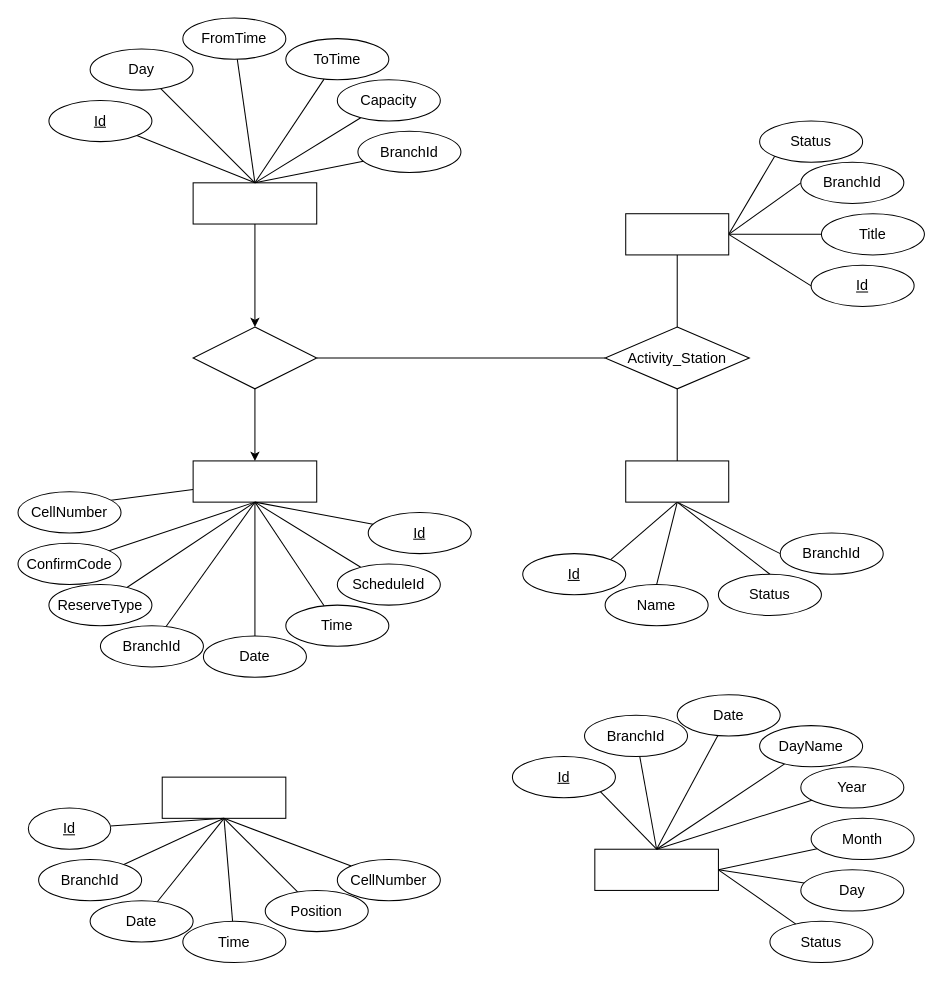
Some shapes in this 942 by 981 pixel diagram are drawn without their labels. The shapes that lost their labels are listed below. From the top down, each one's box as (x1, y1, x2, y2) in pixels, then its label:
(192, 182, 317, 224): Schedule
(625, 213, 729, 255): Activity
(192, 326, 317, 389): Relationship
(192, 460, 317, 502): Reserve
(625, 460, 729, 502): Station
(161, 776, 286, 818): Queue
(594, 848, 718, 890): Calendar
